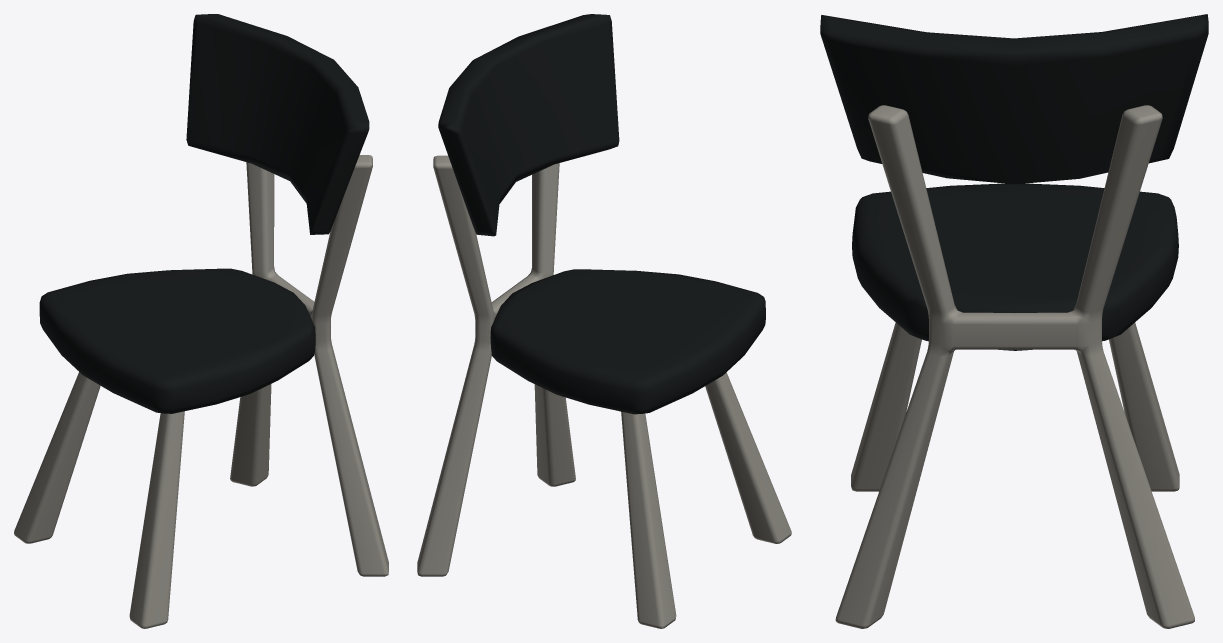
File: chair_03_metal_black.fbx
3 views of the same model, side by side, from view 1: azimuth 30°, elevation 25°; view 2: azimuth 150°, elevation 25°; view 3: azimuth 270°, elevation 25° (orthographic). The views are drawn at different scales.
Parts seen in each view (by area): view 1: chair_03_metal_black; view 2: chair_03_metal_black; view 3: chair_03_metal_black.
Part boxes in pixels (box(x1,y1,x2,y2)): chair_03_metal_black: box(14, 14, 388, 628); chair_03_metal_black: box(417, 14, 791, 628); chair_03_metal_black: box(820, 14, 1208, 628).
Size of the model in its own units: 58.11 by 101 by 60.72.
2 materials, 2 textured.
